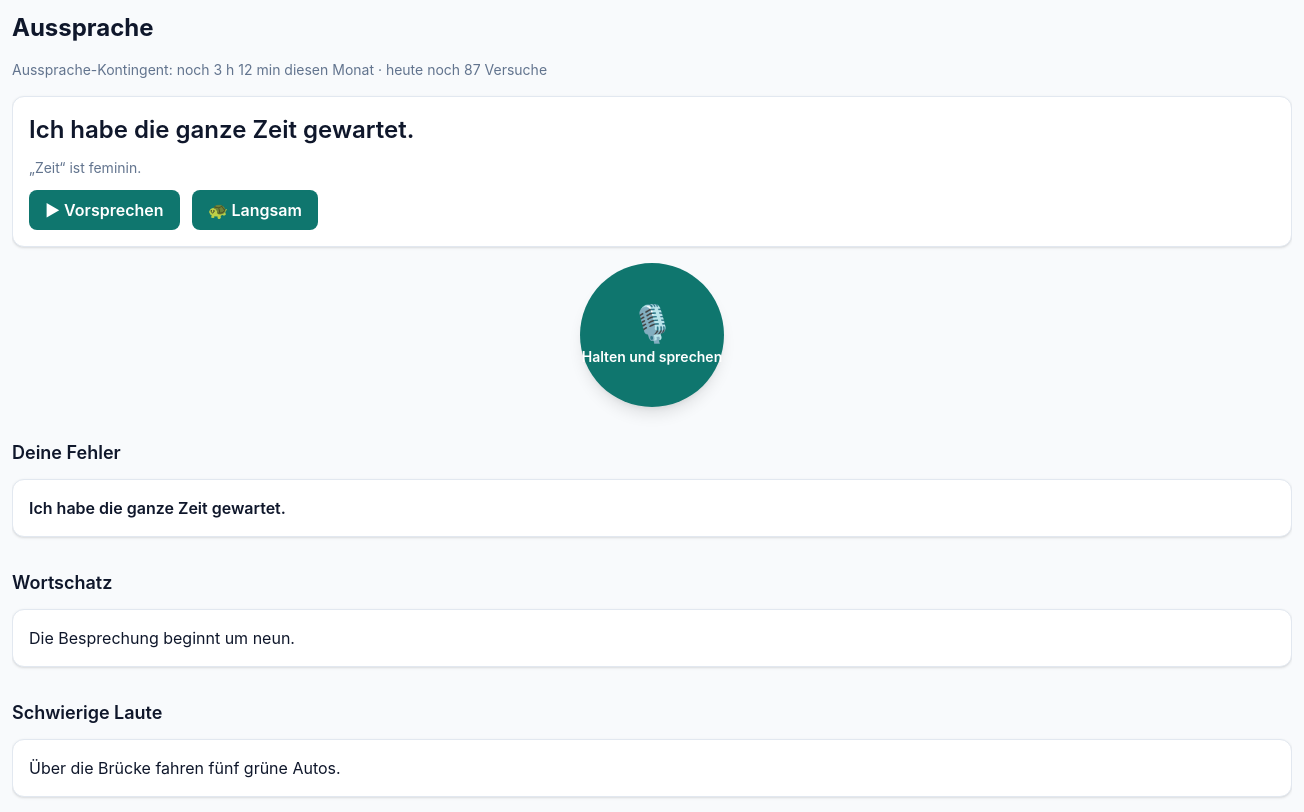
Test: Aussprache › selecting another sentence shows it large with its hint
Step 1. Click the button "Über die Brücke fahren fünf grüne Autos." → (185, 768), box [12,739,1292,797]
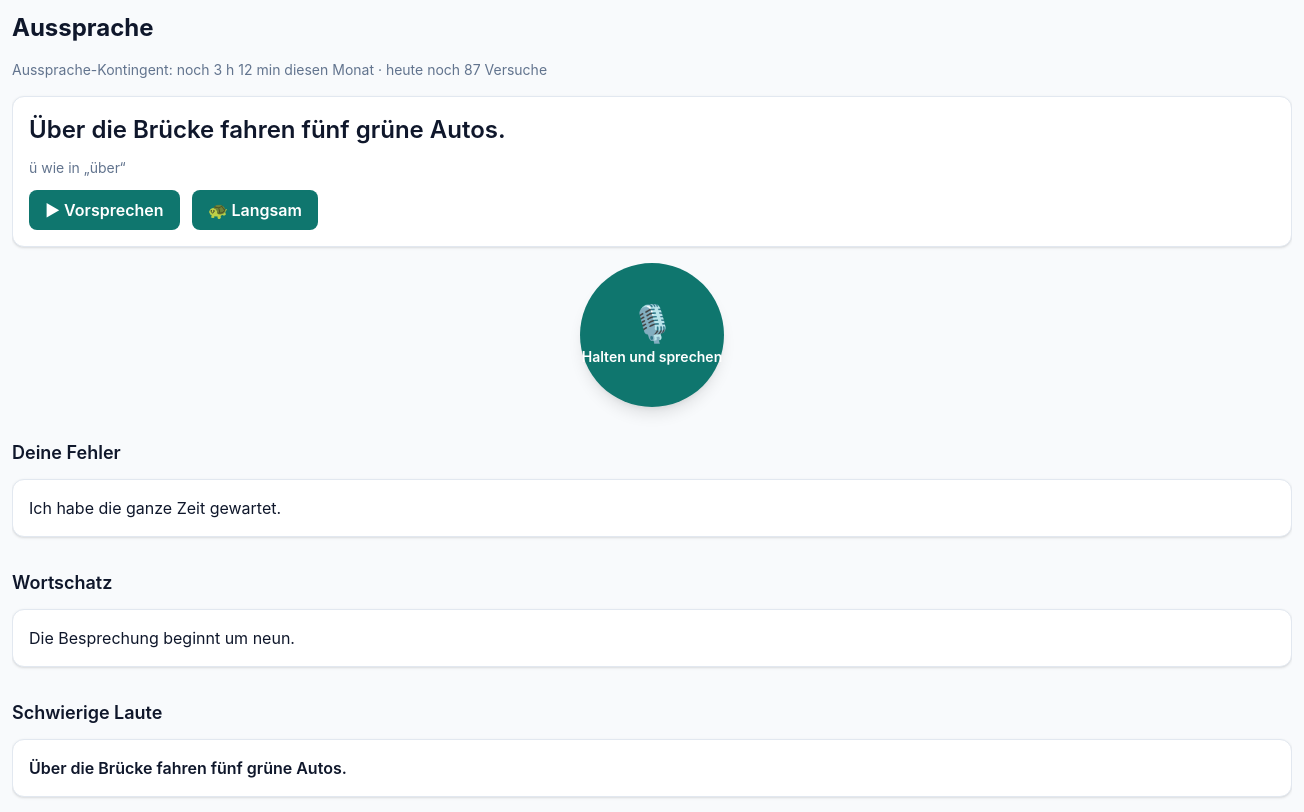
Result: the text "Über die Brücke fahren fünf grüne Autos." is shown at [29,115,506,144]
Result: the text "ü wie in „über“" is shown at [29,159,126,176]
